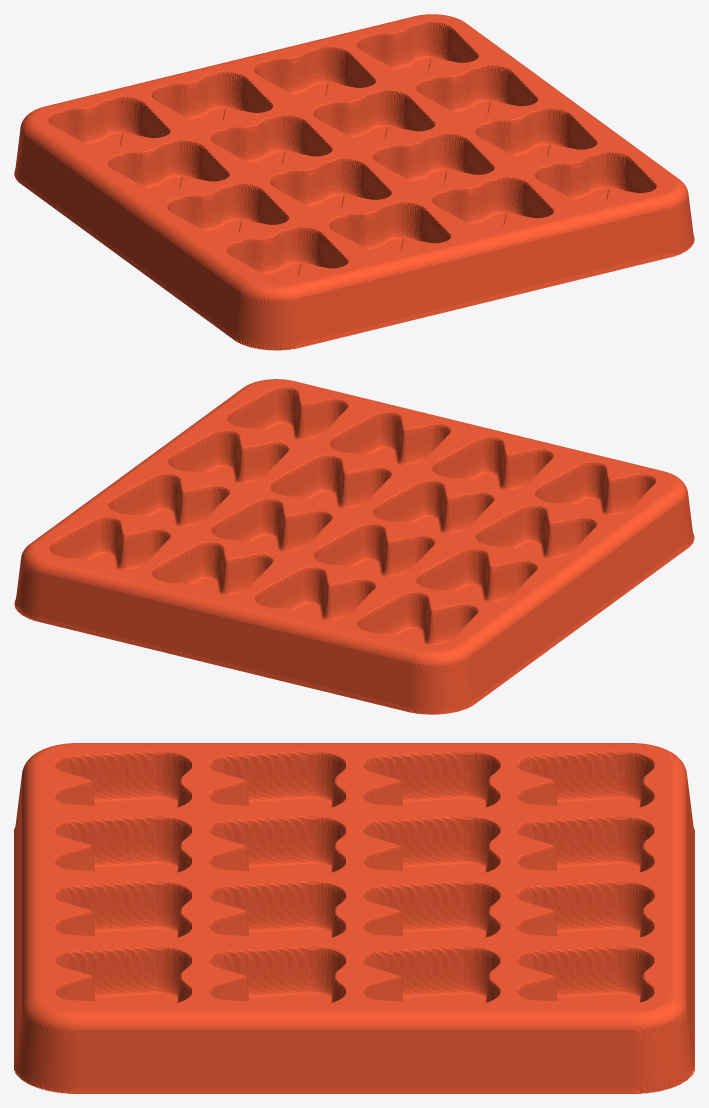
File: mold.glb
3 views of the same model, one above another, from view 1: azimuth 30°, elevation 25°; view 2: azimuth 150°, elevation 25°; view 3: azimuth 270°, elevation 25° (orthographic). The views are drawn at different scales.
Parts seen in each view (by area): view 1: geometry_0; view 2: geometry_0; view 3: geometry_0.
Boxes of the visible parts, <box> form: geometry_0: <box>14,14,694,350</box>; geometry_0: <box>14,379,694,714</box>; geometry_0: <box>14,743,694,1093</box>.
Size of the model in its own units: 0.0972 by 0.0114 by 0.0972.
